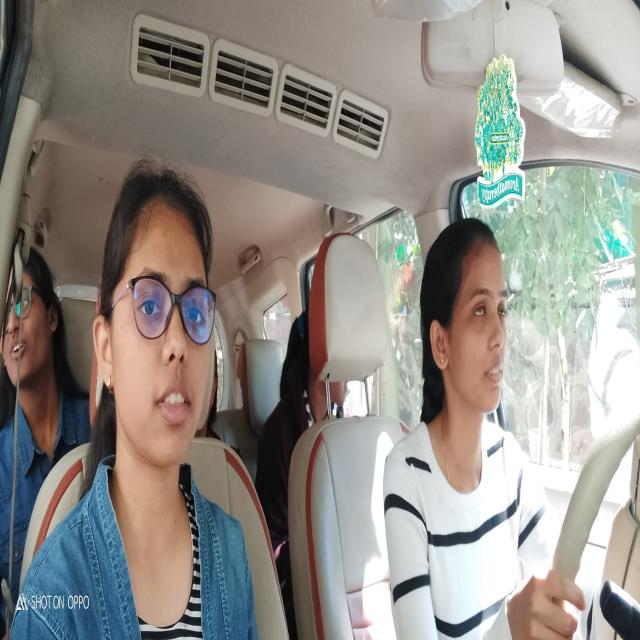person: (95, 162, 223, 485), (418, 216, 513, 438), (2, 236, 64, 404), (316, 369, 356, 409)
